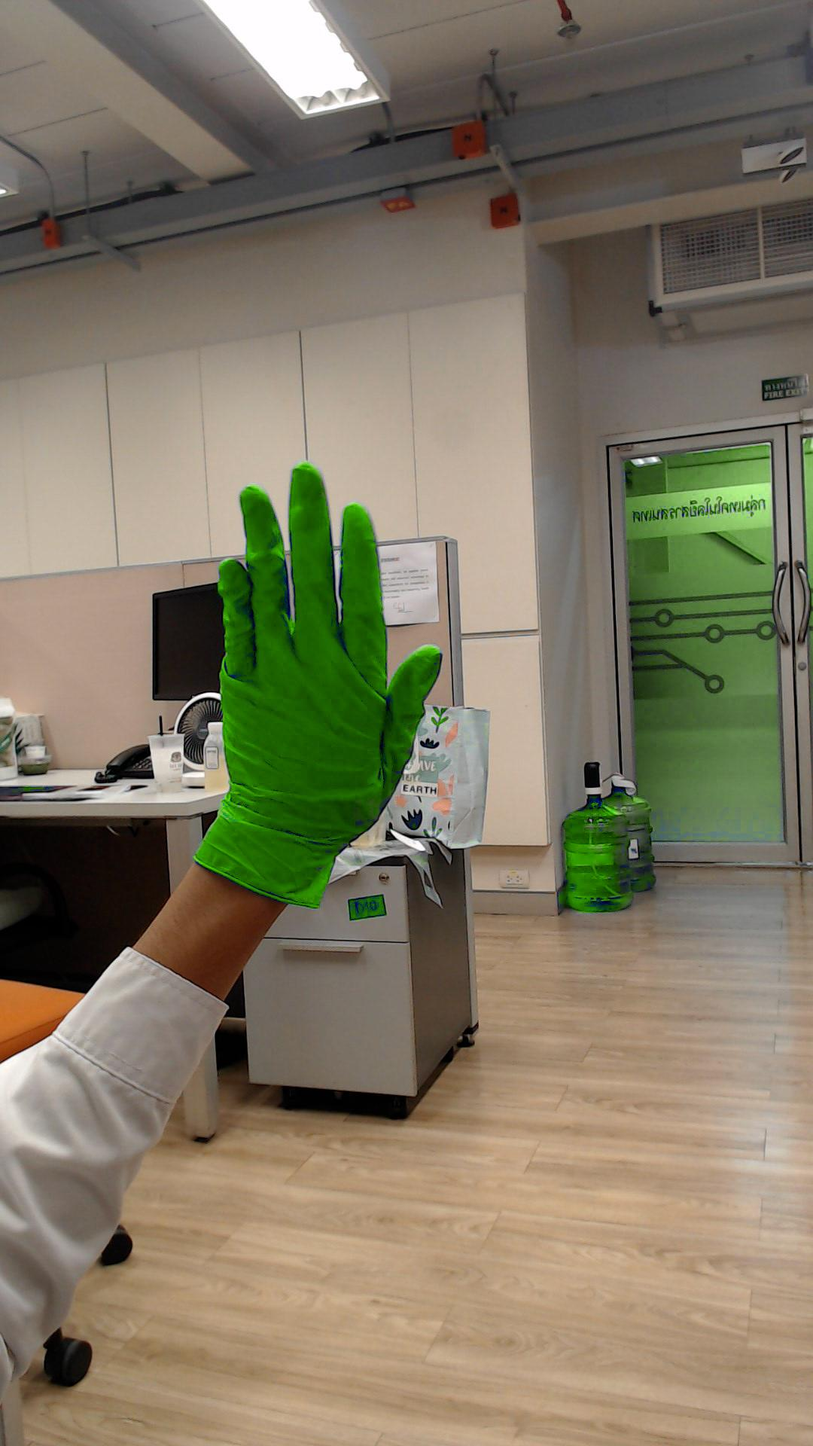gloves: (208, 452, 456, 821)
